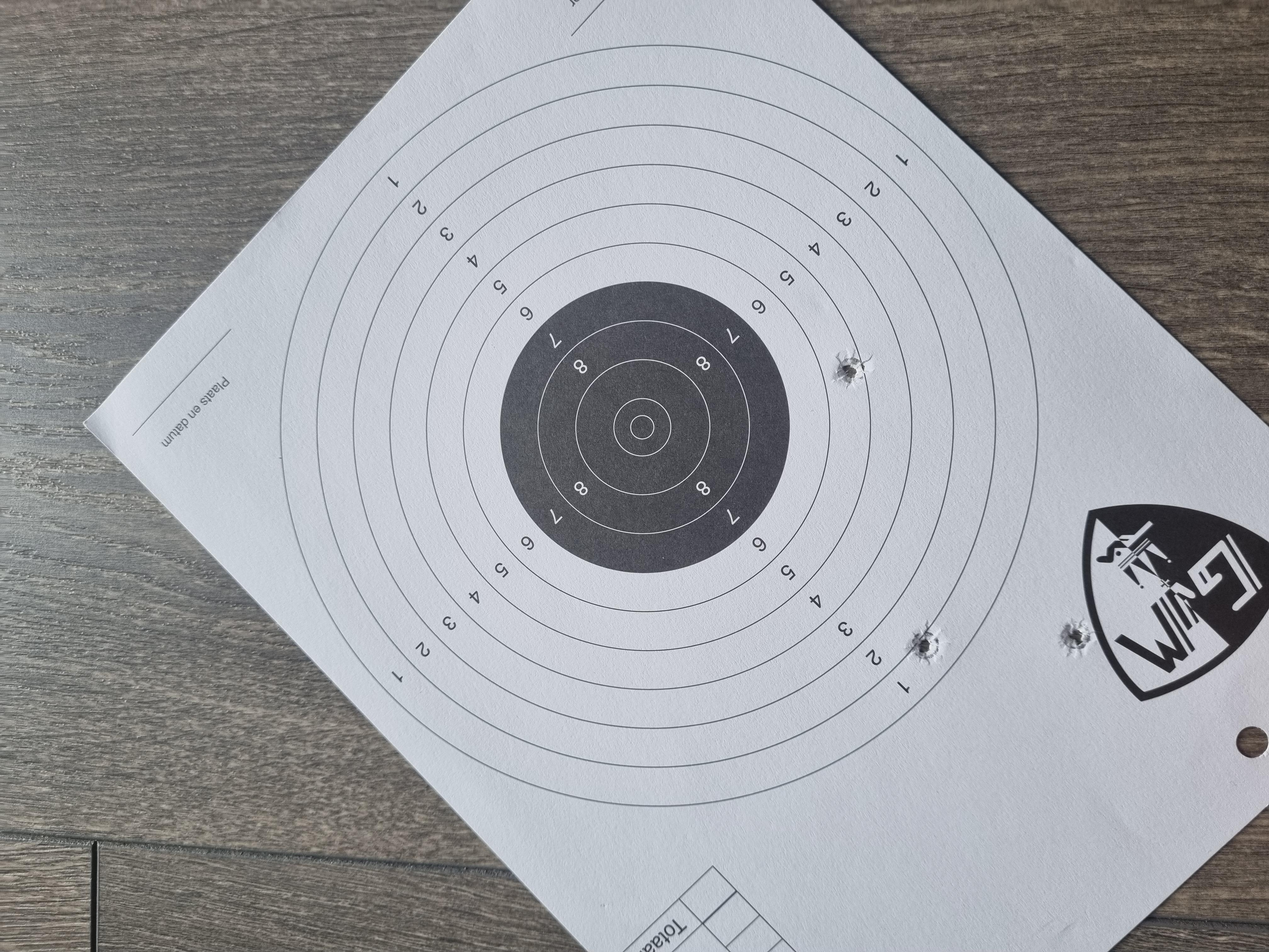hole: (751, 625, 800, 655), (382, 683, 442, 705), (393, 794, 447, 818)
